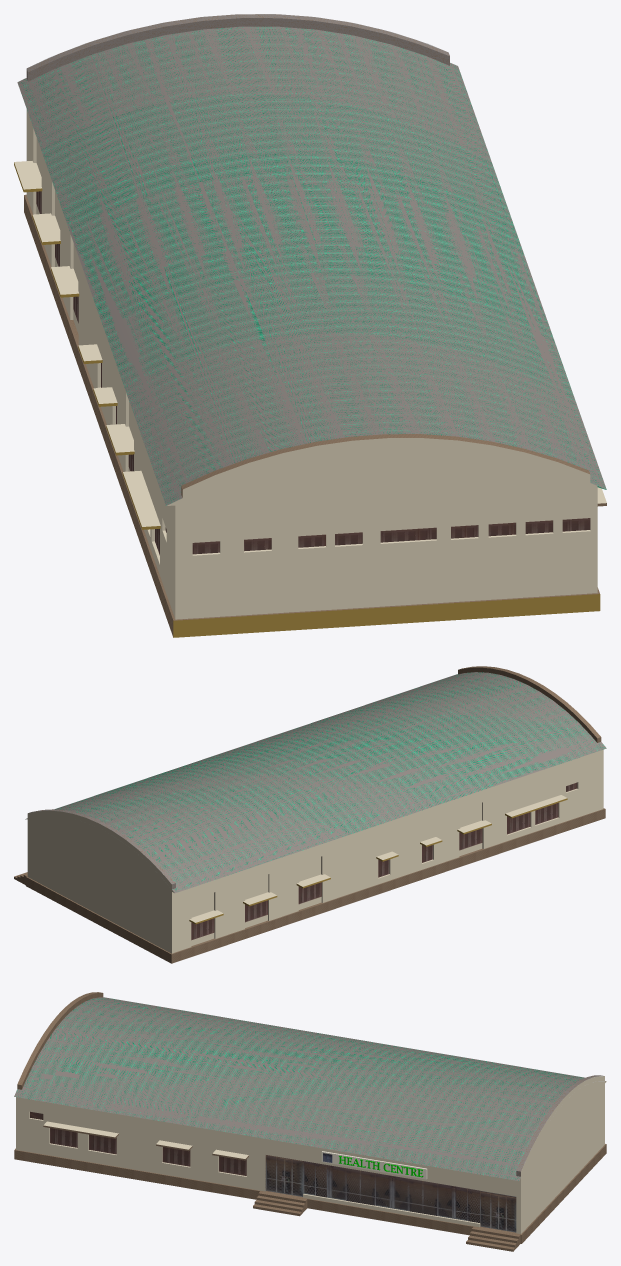
Rendered from GITAMHEALTHCENTER.fbx.
The picture shows the model from 3 angles, top to bottom: view 1: azimuth 30°, elevation 25°; view 2: azimuth 150°, elevation 25°; view 3: azimuth 270°, elevation 25°; orthographic projection. The views are drawn at different scales.
Visible parts, largest first — view 1: SketchUp, SketchUp.010, SketchUp.063, SketchUp.006, SketchUp.012, SketchUp.011, SketchUp.041; view 2: SketchUp, SketchUp.010, SketchUp.012, SketchUp.011, SketchUp.006; view 3: SketchUp, SketchUp.010, SketchUp.012, SketchUp.059, SketchUp.056, SketchUp.054, SketchUp.065, SketchUp.011, SketchUp.057, SketchUp.060, SketchUp.055, SketchUp.006 (+5 smaller).
Part boxes in pixels (<box>): SketchUp: <box>17,26,606,505</box>; SketchUp.010: <box>14,109,597,619</box>; SketchUp.063: <box>173,594,600,637</box>; SketchUp.006: <box>26,14,449,81</box>; SketchUp.012: <box>24,194,599,636</box>; SketchUp.011: <box>181,434,589,497</box>; SketchUp.041: <box>123,470,160,526</box>; SketchUp: <box>26,672,606,893</box>; SketchUp.010: <box>25,749,603,953</box>; SketchUp.012: <box>14,808,605,963</box>; SketchUp.011: <box>458,666,601,742</box>; SketchUp.006: <box>29,809,175,889</box>; SketchUp: <box>14,997,605,1180</box>; SketchUp.010: <box>16,1076,606,1233</box>; SketchUp.012: <box>14,1144,606,1251</box>; SketchUp.059: <box>329,1165,453,1218</box>; SketchUp.056: <box>265,1155,303,1196</box>; SketchUp.054: <box>480,1191,516,1232</box>; SketchUp.065: <box>321,1151,427,1179</box>; SketchUp.011: <box>17,992,103,1089</box>; SketchUp.057: <box>453,1186,480,1222</box>; SketchUp.060: <box>303,1161,328,1197</box>; SketchUp.055: <box>303,1194,480,1227</box>; SketchUp.006: <box>516,1075,602,1176</box>.
Size of the model in its own units: 2592 by 650 by 3517.
